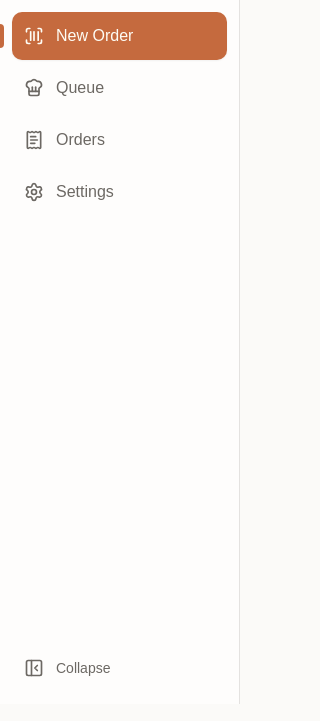
Sidebar: the icon rail below xl › stays the rail at every width once collapsed
Click the button with test id "sidebar-toggle": (120, 668) [12,644,227,692]
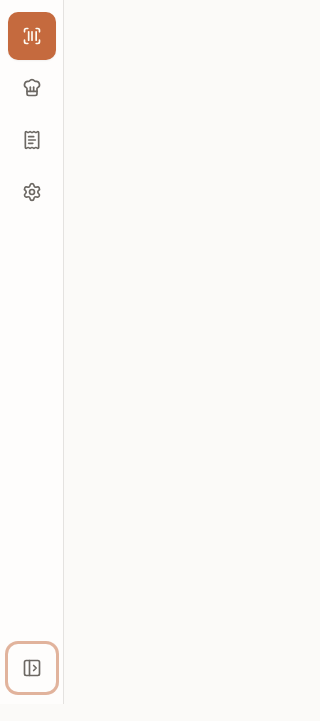
Now the text "Orders" is gone
